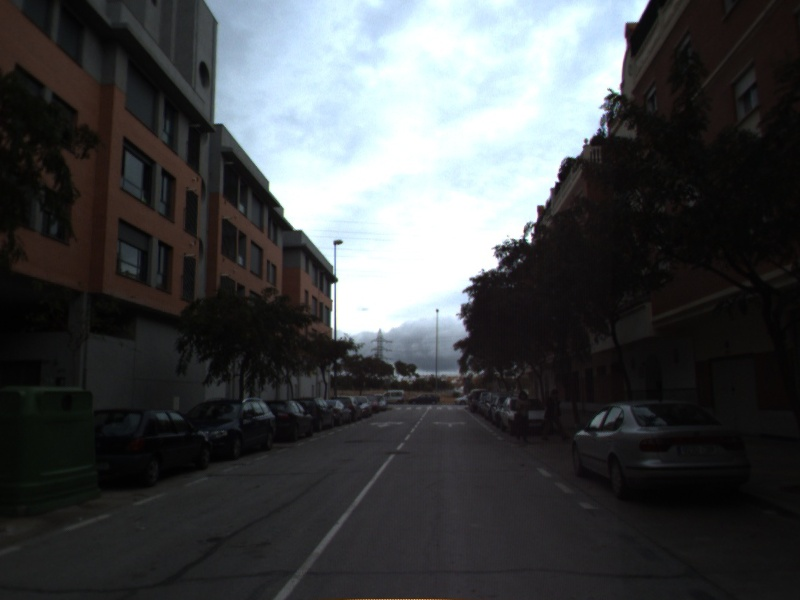LEFT_RIGHT: (430, 418, 470, 429)
